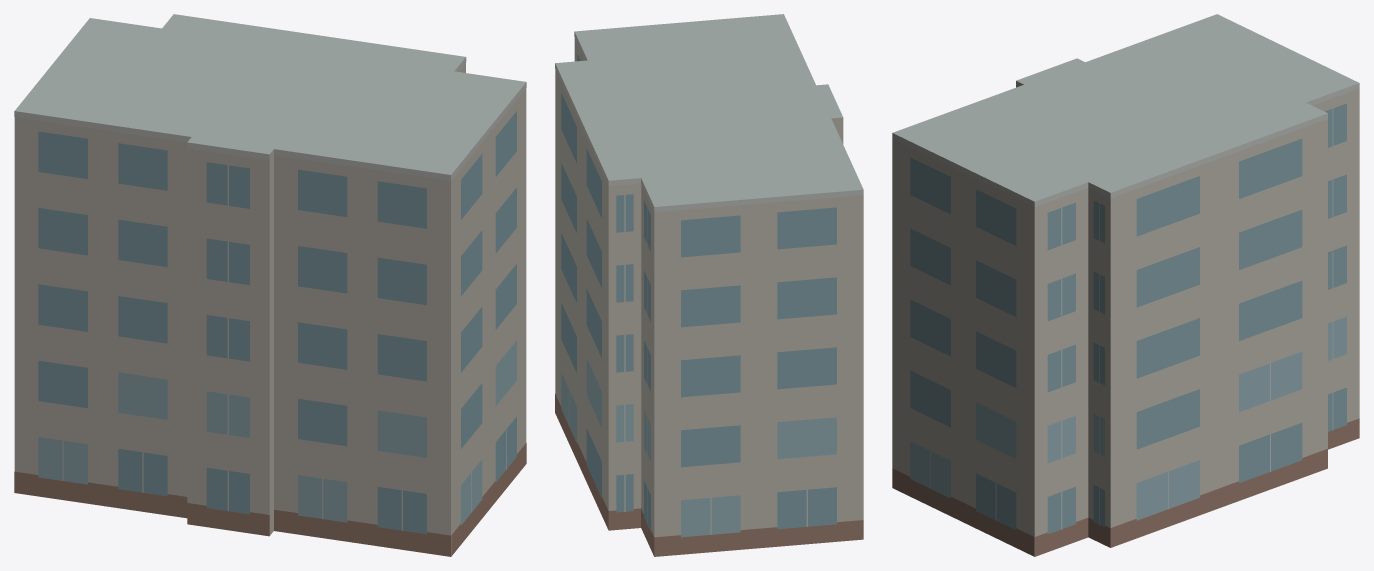
File: survey-upis-32660937.glb
3 renders of one model, left to right at view 1: azimuth 30°, elevation 25°; view 2: azimuth 150°, elevation 25°; view 3: azimuth 270°, elevation 25°, orthographic. The views are drawn at different scales.
Visible parts, largest first — view 1: survey-upis-32660937.tmp; view 2: survey-upis-32660937.tmp; view 3: survey-upis-32660937.tmp.
Boxes of the visible parts, bbox=[...] form: survey-upis-32660937.tmp: bbox=[14, 14, 526, 556]; survey-upis-32660937.tmp: bbox=[555, 14, 863, 556]; survey-upis-32660937.tmp: bbox=[892, 14, 1359, 556].
Size of the model in its own units: 17.93 by 15.8 by 18.85.
